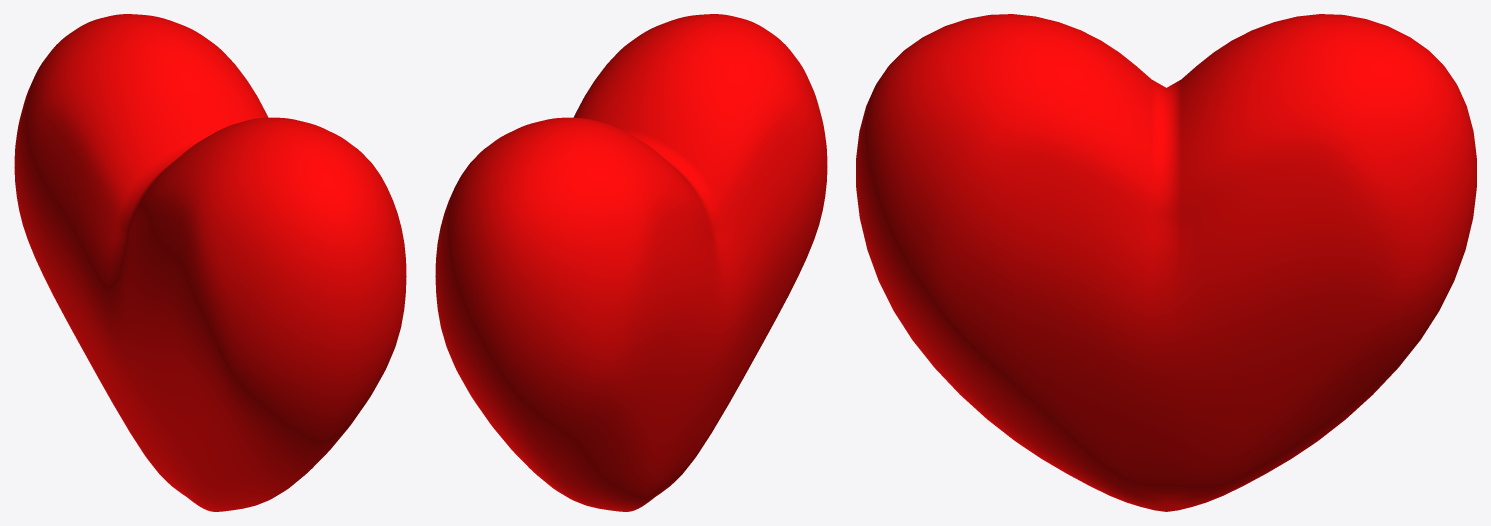
File: heart_01.FBX
The picture shows the model from 3 angles, left to right: view 1: azimuth 30°, elevation 25°; view 2: azimuth 150°, elevation 25°; view 3: azimuth 270°, elevation 25°; orthographic projection. The views are drawn at different scales.
Visible parts, largest first — view 1: heart_01; view 2: heart_01; view 3: heart_01.
Part boxes in pixels (x1=…): heart_01: x1=14, y1=14, x2=406, y2=511; heart_01: x1=435, y1=14, x2=827, y2=511; heart_01: x1=856, y1=14, x2=1476, y2=511.
Bounding box in the file's own units: 23.51 × 47.23 × 54.72.
